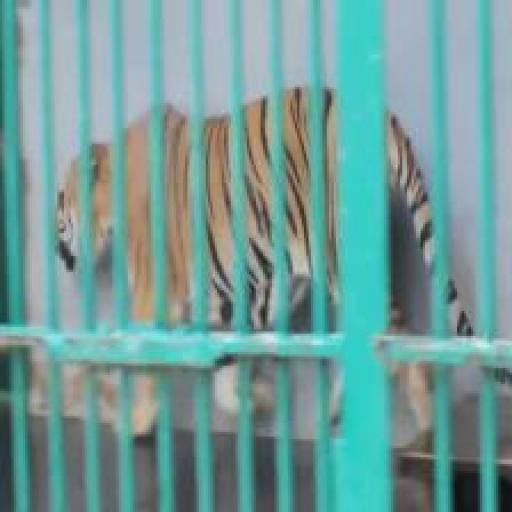Tiger: (30, 84, 433, 511)
